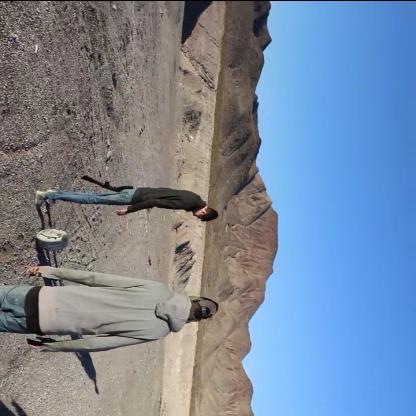long weapon: (79, 171, 135, 195)
